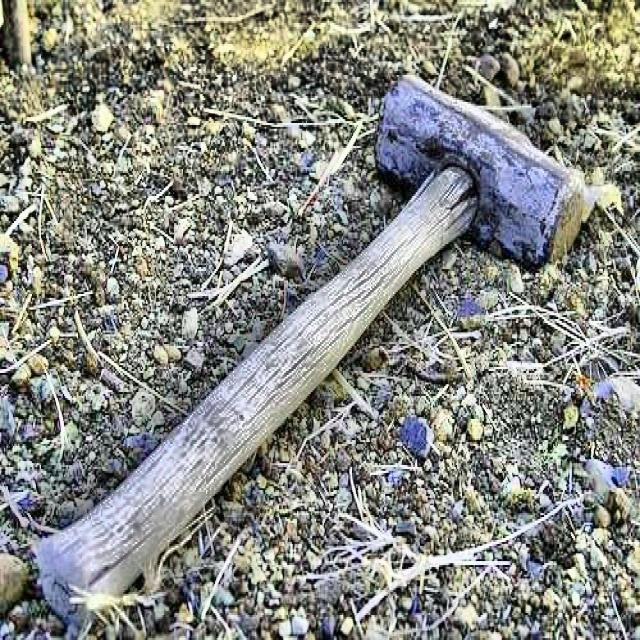hammer: (32, 67, 586, 615)
